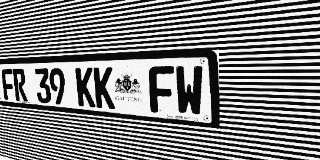3: (34, 68, 51, 104)
9: (49, 68, 67, 105)
F: (148, 66, 175, 114), (1, 69, 15, 101)
K: (93, 67, 115, 109), (75, 67, 95, 107)
R: (12, 69, 28, 102)
W: (175, 65, 204, 117)
